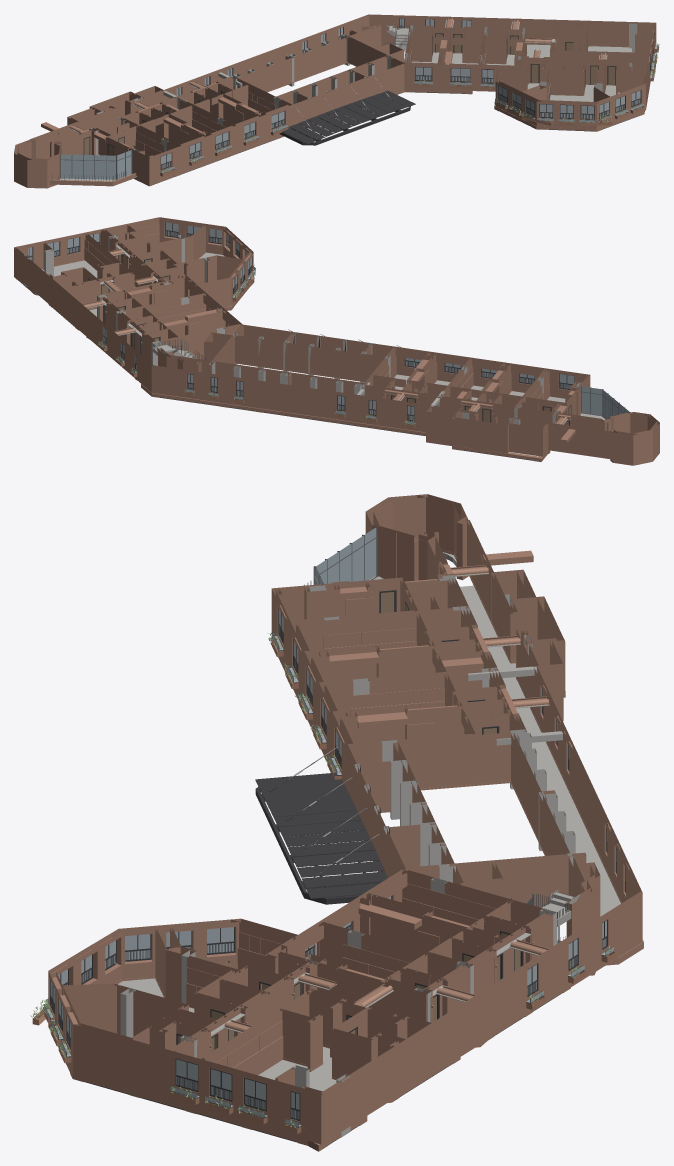
File: revit_nivel_1.glb
3 renders of one model, top to bottom at view 1: azimuth 30°, elevation 25°; view 2: azimuth 150°, elevation 25°; view 3: azimuth 270°, elevation 25°, orthographic. The views are drawn at different scales.
Visible parts, largest first — view 1: Revit_PISO 2; view 2: Revit_PISO 2; view 3: Revit_PISO 2.
Boxes of the visible parts, left/top/right/bottom form: Revit_PISO 2: left=14, top=14, right=659, bottom=188; Revit_PISO 2: left=14, top=217, right=659, bottom=465; Revit_PISO 2: left=30, top=494, right=643, bottom=1151.
Bounding box in the file's own units: 68.88 × 3 × 29.71.
